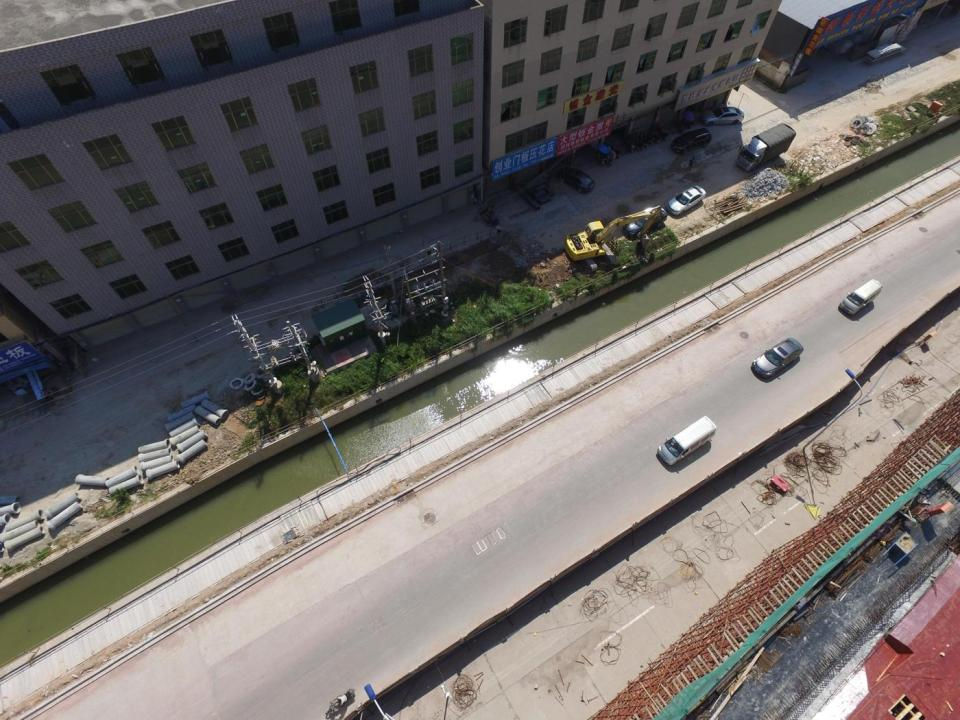car: (751, 337, 804, 378), (336, 268, 387, 307), (667, 186, 706, 218), (671, 128, 711, 155), (562, 168, 596, 194), (699, 105, 745, 124)
van: (655, 415, 717, 465), (734, 124, 796, 172), (838, 278, 883, 315)
